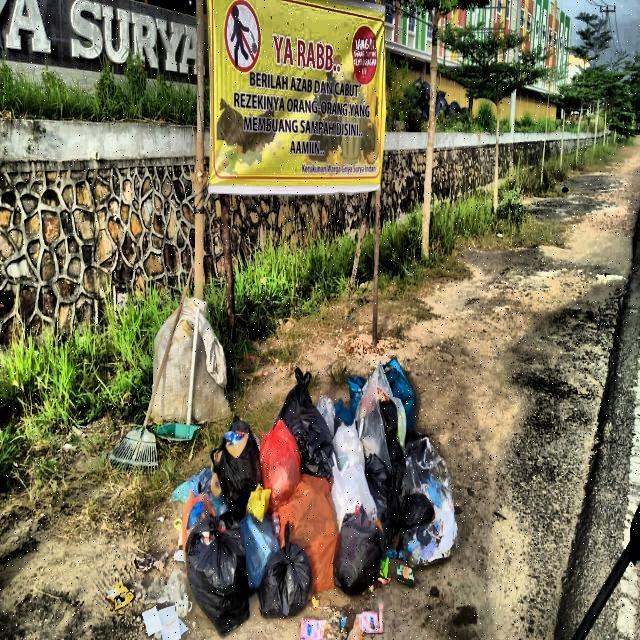Trashbag: (185, 511, 249, 631), (246, 542, 322, 618), (285, 378, 334, 474), (208, 428, 261, 514), (331, 509, 377, 603), (364, 449, 398, 537), (402, 489, 432, 530)
